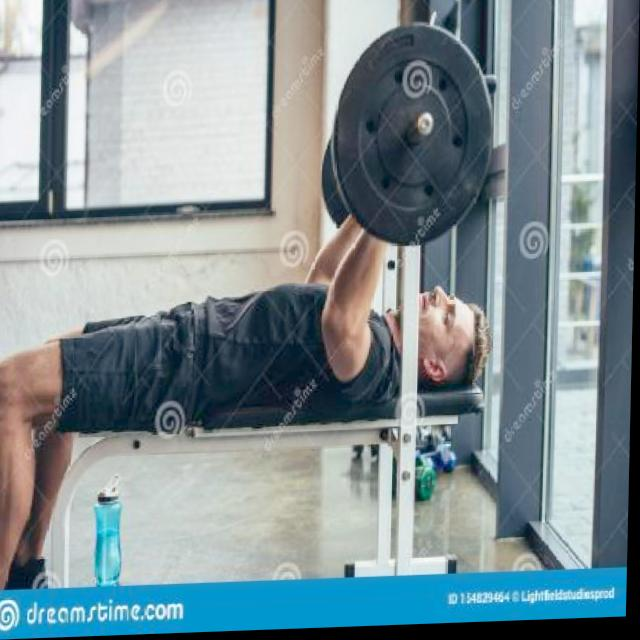barbell: (334, 16, 498, 256)
